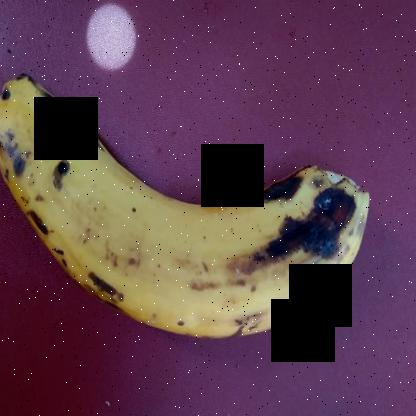ripe: (1, 52, 374, 348)
